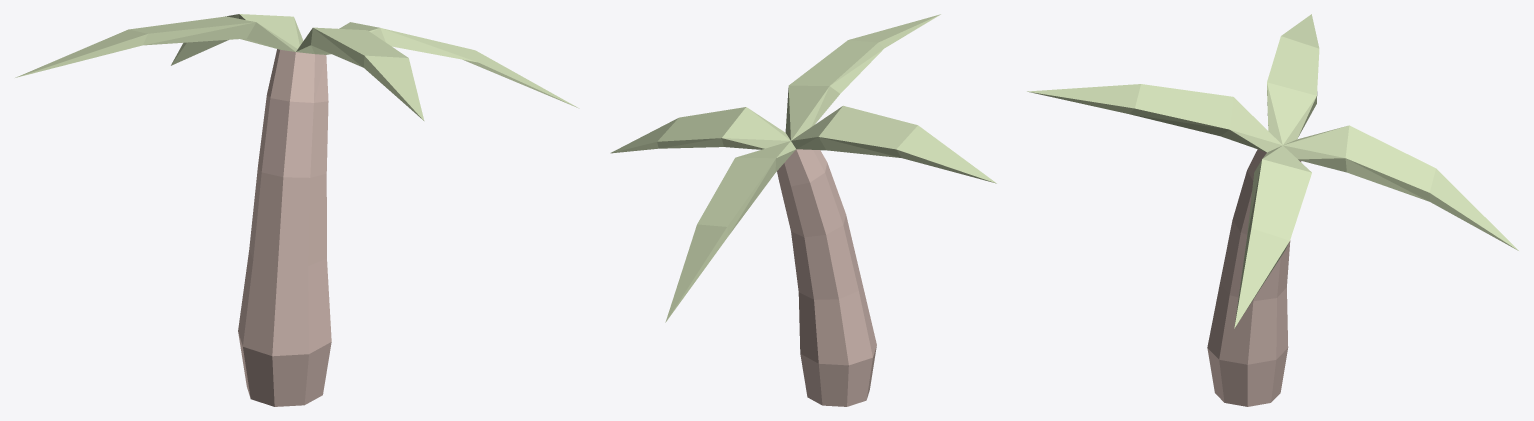
Rendered from PalmTree.fbx.
The picture shows the model from 3 angles, left to right: view 1: azimuth 30°, elevation 25°; view 2: azimuth 150°, elevation 25°; view 3: azimuth 270°, elevation 25°; orthographic projection. The views are drawn at different scales.
Parts seen in each view (by area): view 1: PalmTree; view 2: PalmTree; view 3: PalmTree.
Boxes of the visible parts, box(x1,y1,x2,y2) form: PalmTree: box(15, 14, 579, 406); PalmTree: box(610, 14, 996, 406); PalmTree: box(1027, 14, 1518, 406).
Size of the model in its own units: 5.83 by 4.05 by 5.74.
